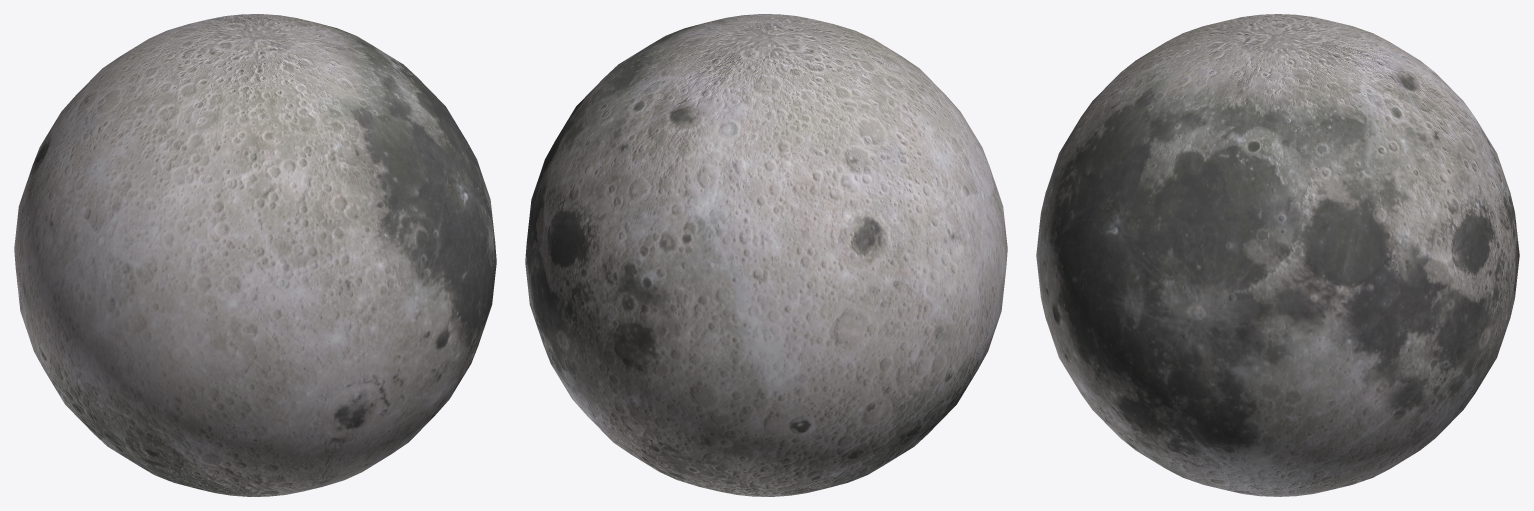
File: moon.glb
3 renders of one model, left to right at view 1: azimuth 30°, elevation 25°; view 2: azimuth 150°, elevation 25°; view 3: azimuth 270°, elevation 25°, orthographic.
Parts seen in each view (by area): view 1: Sphere; view 2: Sphere; view 3: Sphere.
Boxes of the visible parts, left/top/right/bottom form: Sphere: left=14, top=14, right=496, bottom=496; Sphere: left=525, top=14, right=1007, bottom=496; Sphere: left=1036, top=14, right=1519, bottom=496.
Size of the model in its own units: 2 by 2 by 2.
1 material, 1 textured.
